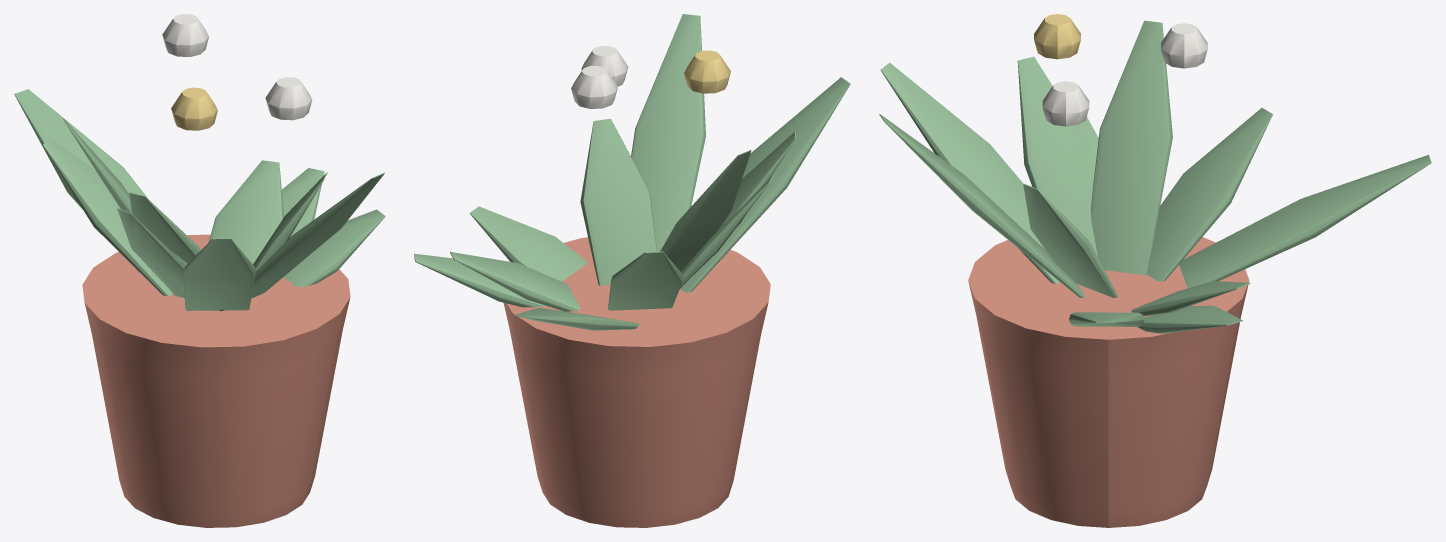
Rendered from potted-plant.glb.
The picture shows the model from 3 angles, left to right: view 1: azimuth 30°, elevation 25°; view 2: azimuth 150°, elevation 25°; view 3: azimuth 270°, elevation 25°; orthographic projection. The views are drawn at different scales.
Parts seen in each view (by area): view 1: potted-plant; view 2: potted-plant; view 3: potted-plant.
Part boxes in pixels (<box>): potted-plant: <box>14,14,385,527</box>; potted-plant: <box>414,14,850,527</box>; potted-plant: <box>879,14,1431,527</box>.
Bounding box in the file's own units: 0.3774 × 0.536 × 0.583.
